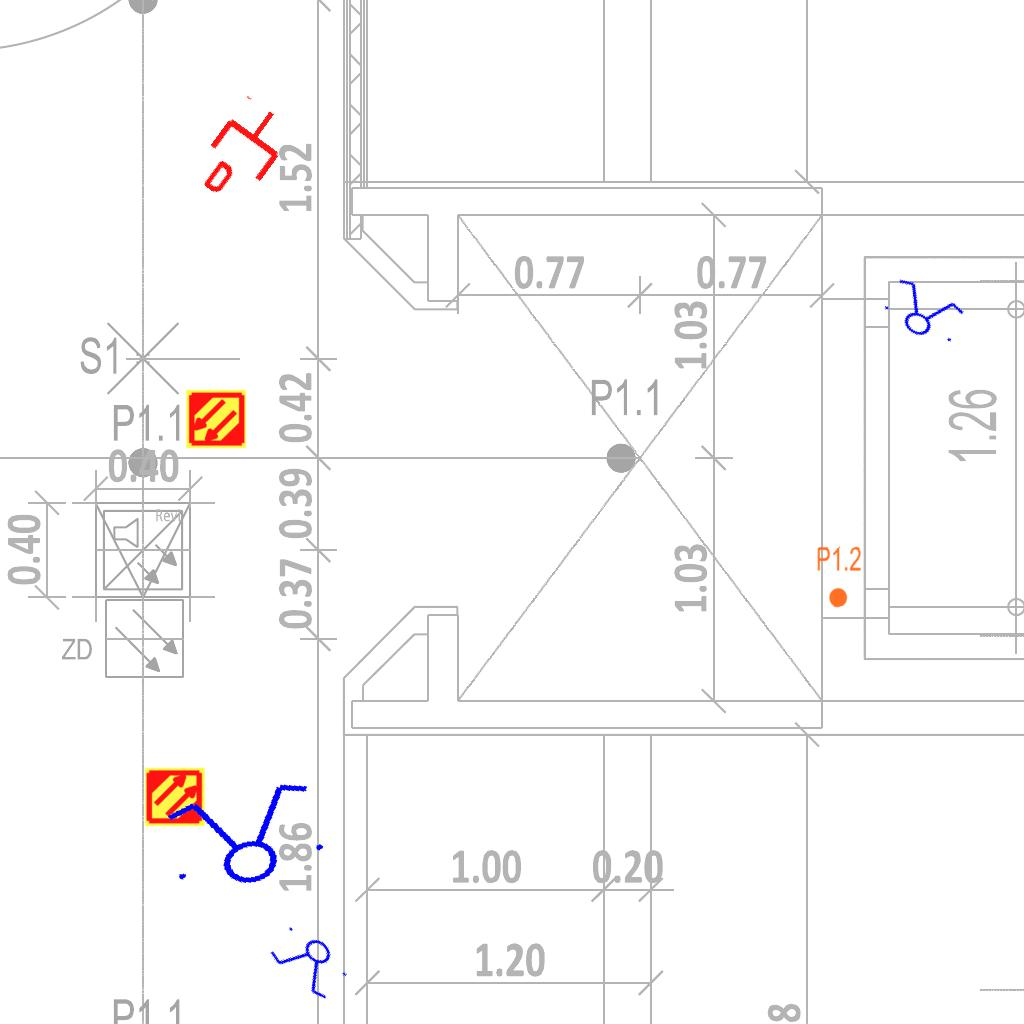ASR_Ansaugrauchmelder: (185, 388, 247, 450), (144, 766, 206, 828)
Datenanschluss_einfach: (186, 91, 301, 213)
Downlight_LED_Einbauleuchten_Flur: (815, 544, 863, 610)
Serienschalter: (151, 772, 337, 902), (262, 916, 358, 1008), (874, 271, 972, 353)
